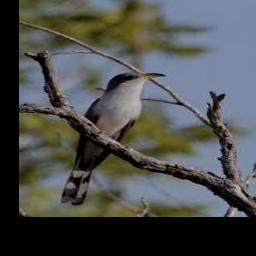Cuckoo: (61, 72, 165, 206)
